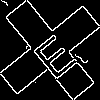E: (25, 25, 80, 82)
